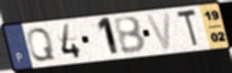1: (96, 16, 122, 58)
4: (60, 23, 83, 60)
B: (111, 15, 148, 56)
Q: (25, 27, 57, 63)
T: (175, 8, 200, 50)
V: (144, 11, 173, 52)
